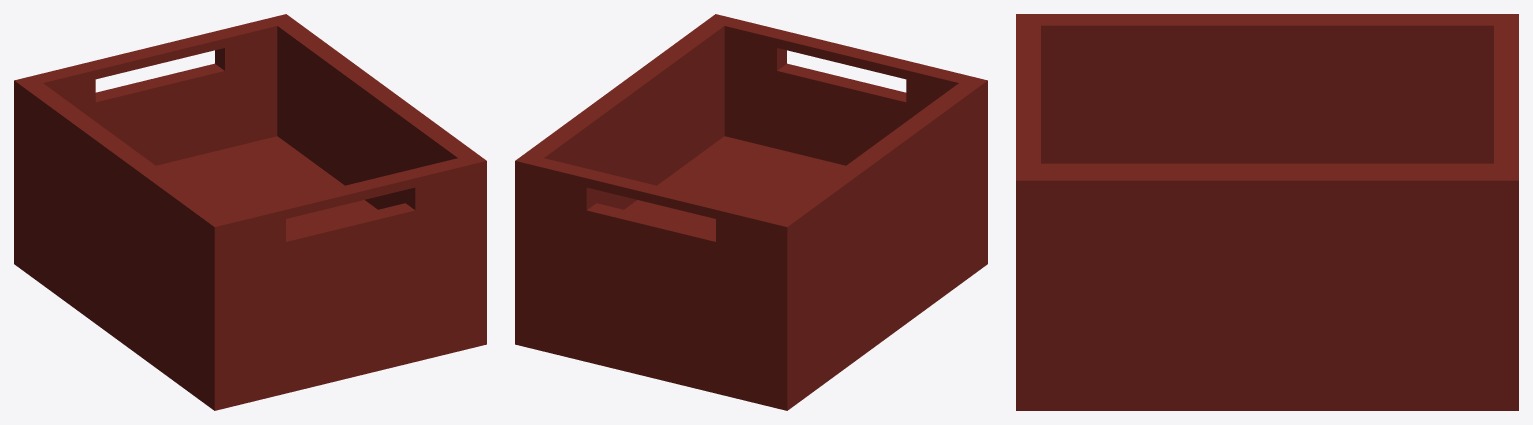
The model's file is container.fbx.
The picture shows the model from 3 angles, left to right: view 1: azimuth 30°, elevation 25°; view 2: azimuth 150°, elevation 25°; view 3: azimuth 270°, elevation 25°; orthographic projection. The views are drawn at different scales.
Visible parts, largest first — view 1: Cube.036; view 2: Cube.036; view 3: Cube.036.
Boxes of the visible parts, x1,y1,x2,y2 form: Cube.036: [14, 14, 486, 410]; Cube.036: [515, 14, 987, 410]; Cube.036: [1016, 14, 1518, 410].
Bounding box in the file's own units: 141 × 91.11 × 180.
